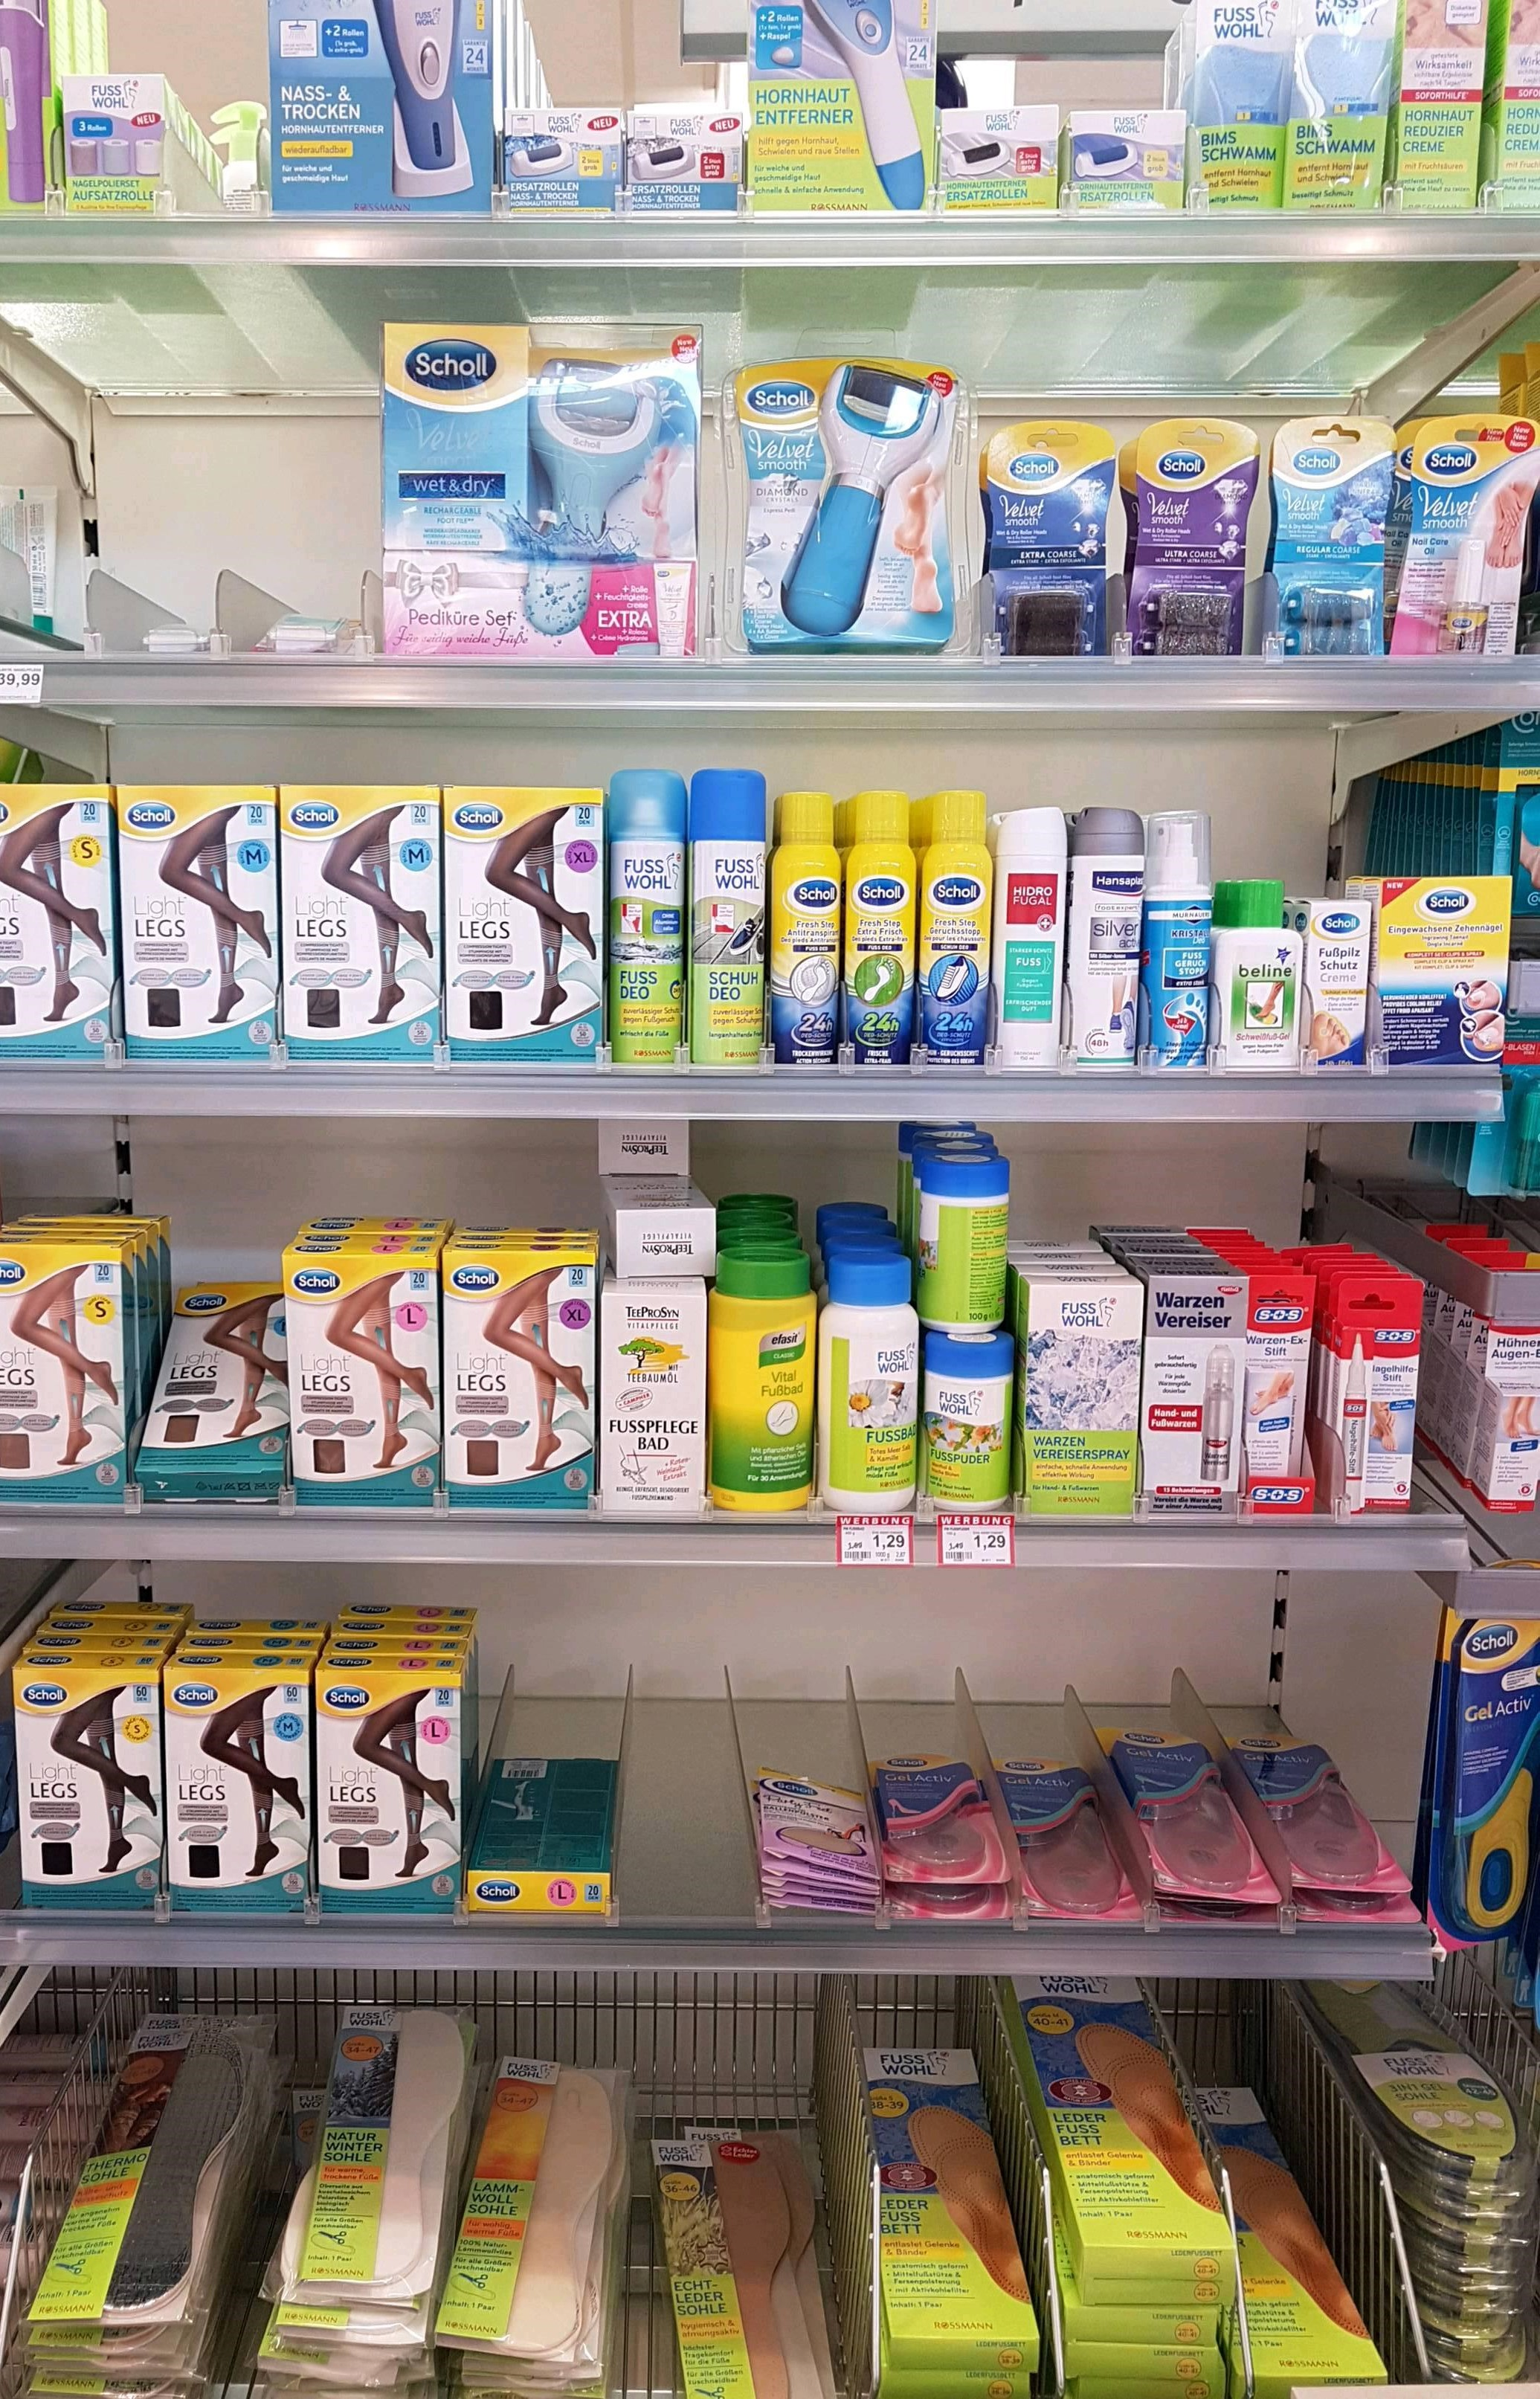empty: (112, 371, 364, 635), (622, 1628, 748, 1920)
misalignment: (152, 1243, 297, 1493)
